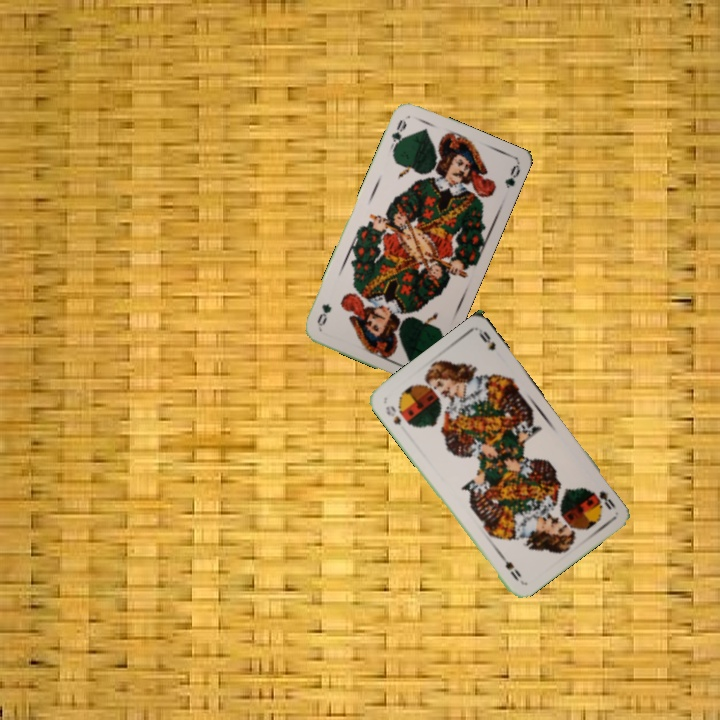GO: (385, 115, 409, 154)
SO: (381, 402, 412, 429), (588, 486, 619, 512)
